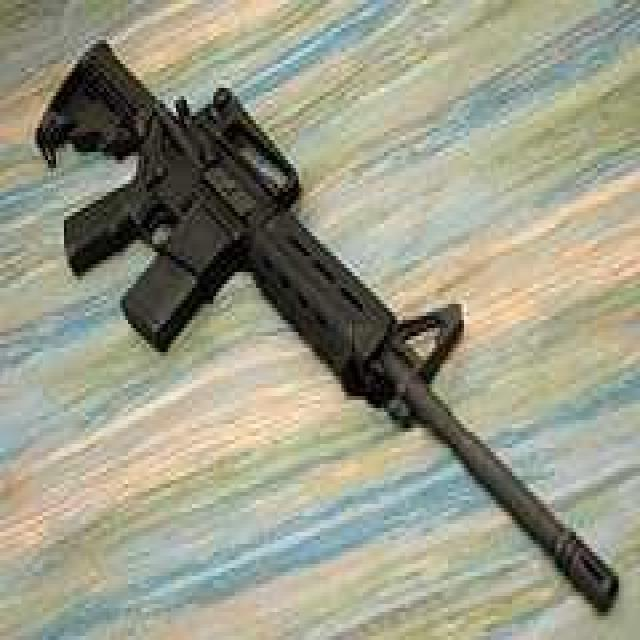Rifle: (30, 32, 627, 618)
